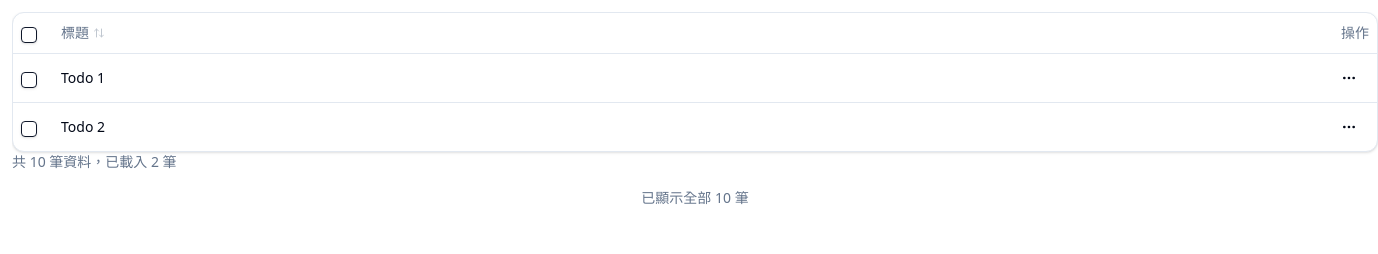
Sprint B5 — CrudListClient Toolbar 整合 › 選中 row 後「批次刪除」按鈕 enabled
The width and height of the screenshot is (1378, 254).
Click the checkbox with test id "row-checkbox".
click(29, 80)  # box [21,72,37,88]
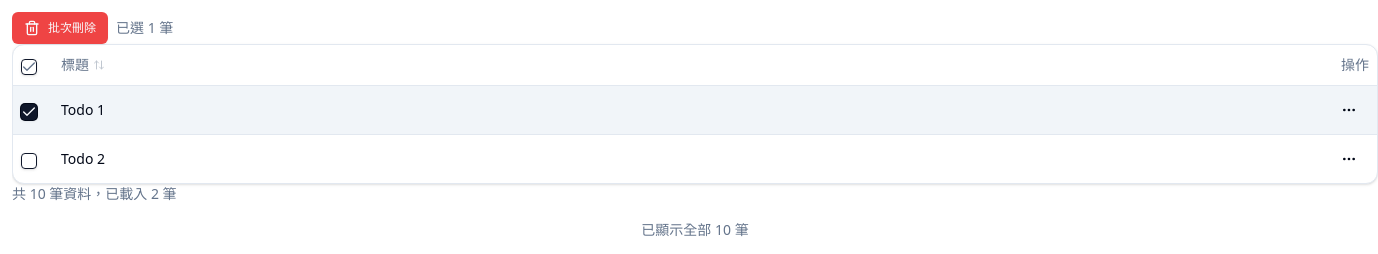
Expected: the button with test id "batch-delete-button" is enabled, [12,12,108,44]
